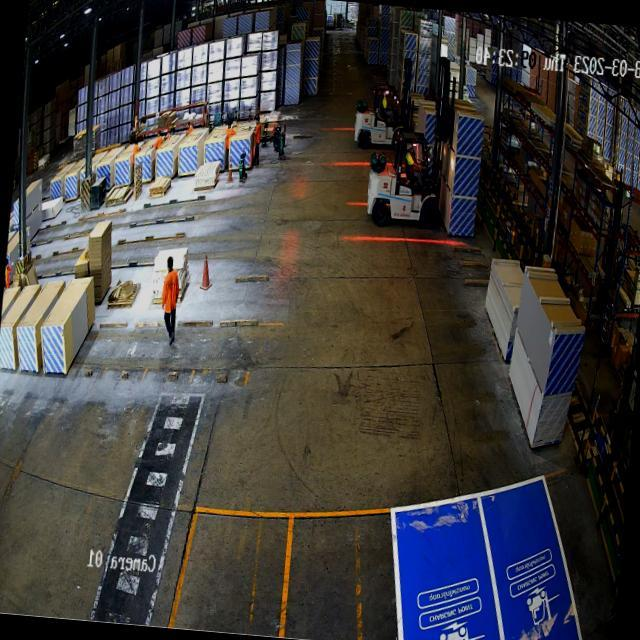driver: (402, 144, 424, 186), (380, 90, 394, 124)
forklift: (360, 122, 445, 236), (349, 78, 407, 156)
person: (156, 253, 182, 346), (253, 115, 263, 162), (224, 123, 234, 149)
